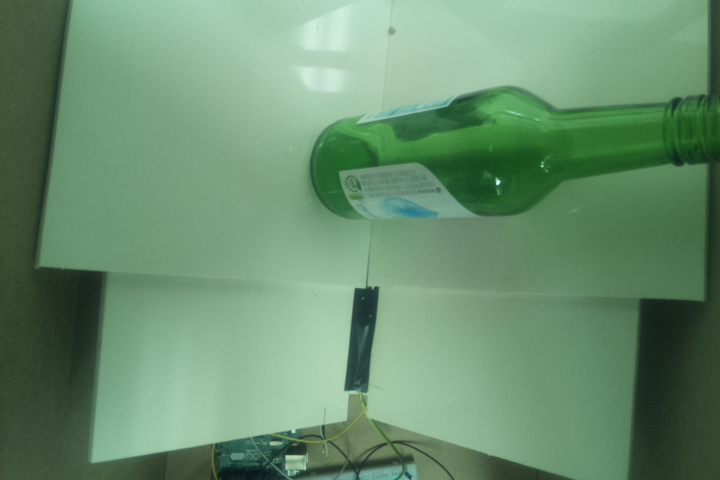soju: (309, 82, 720, 224)
